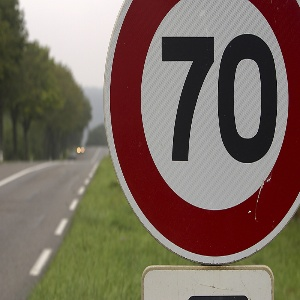70 speed: (105, 1, 300, 265)
